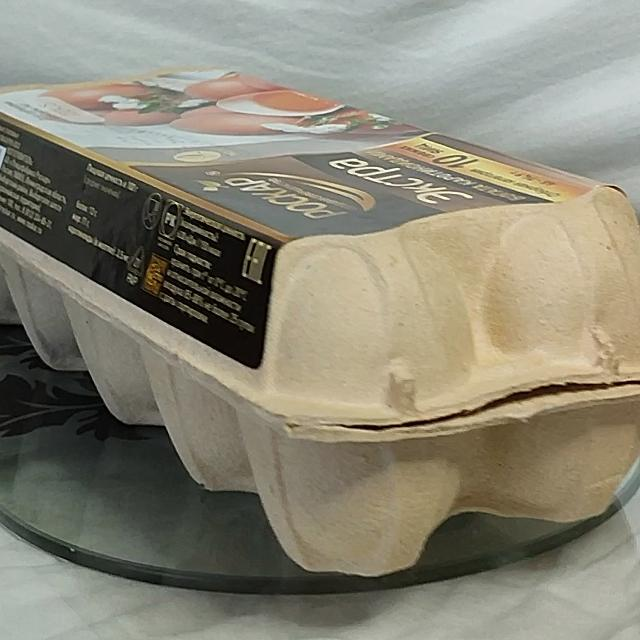egg: (0, 47, 640, 586)
